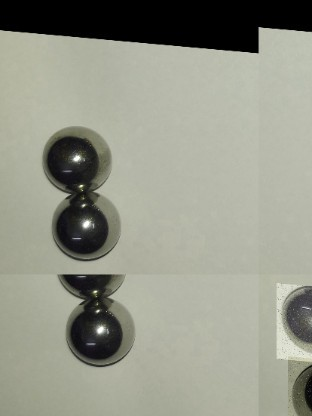ironball: (40, 120, 121, 186), (50, 191, 126, 260), (66, 301, 137, 368), (276, 281, 312, 363), (54, 271, 130, 295), (288, 355, 312, 415)
